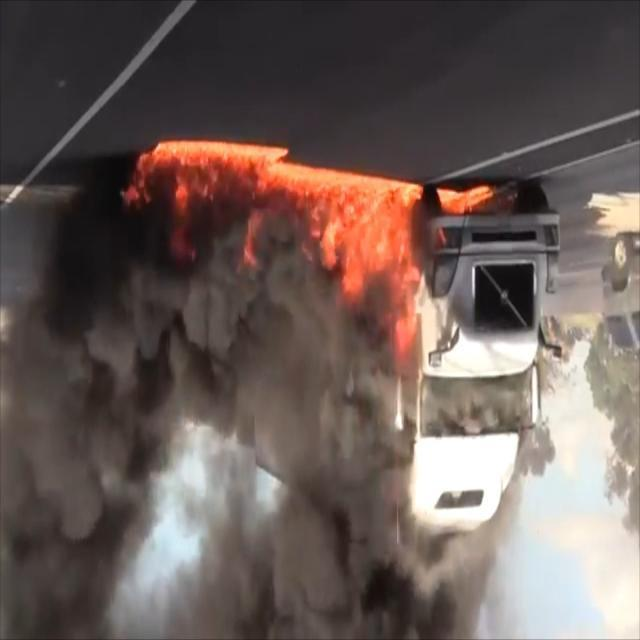fire: (134, 134, 498, 368)
